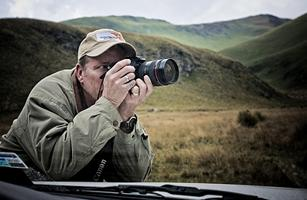person: (2, 28, 155, 182)
